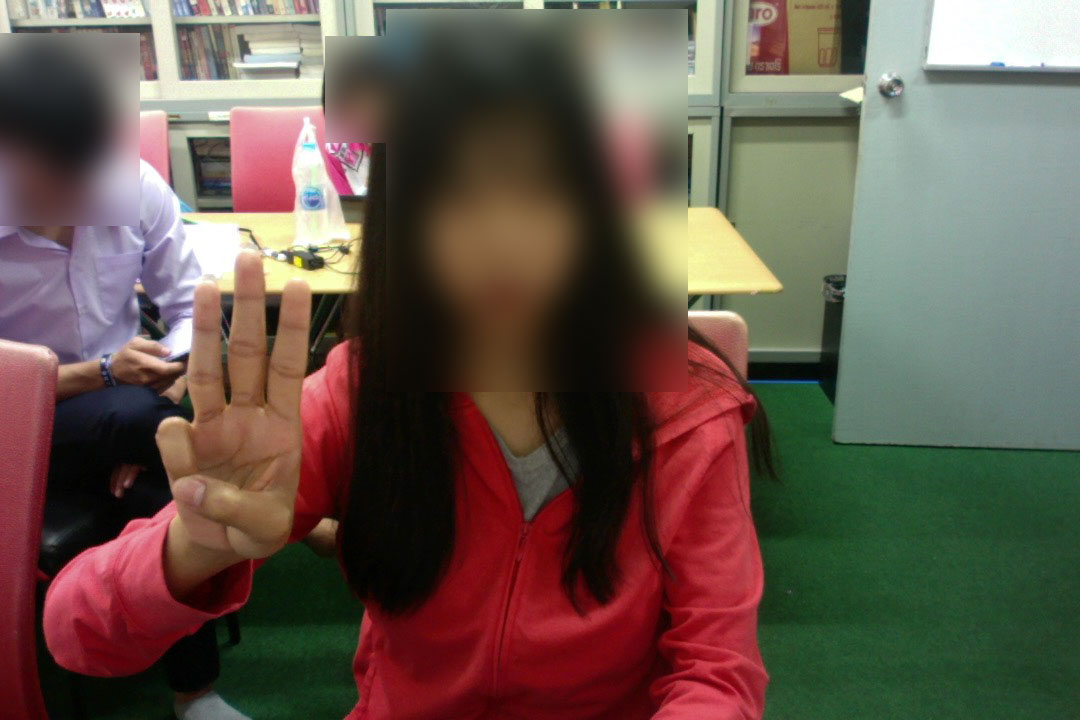wor: (139, 248, 322, 570)
